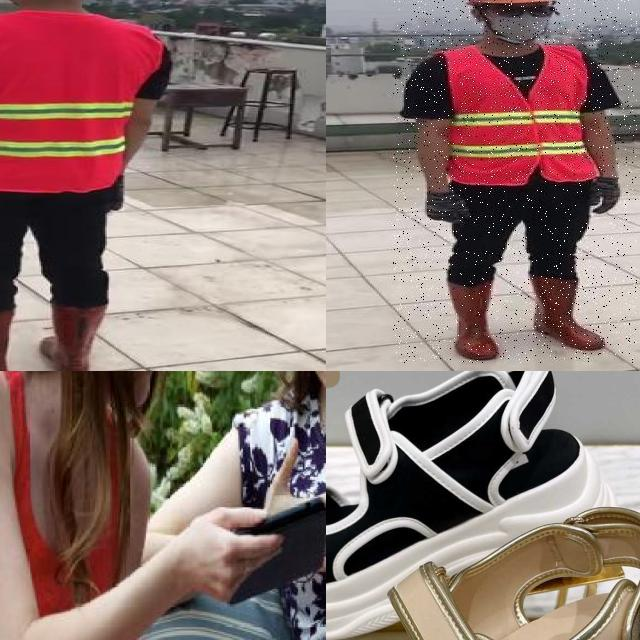Sandals: (326, 371, 639, 621), (326, 489, 640, 640)
boots: (533, 272, 611, 354), (439, 280, 500, 362), (39, 301, 105, 371)
hand_glove: (105, 175, 127, 212)
hand_noglove: (177, 497, 290, 610)
person: (393, 0, 637, 363), (0, 0, 176, 371), (0, 371, 181, 640), (208, 371, 326, 640)
vest: (0, 12, 158, 192), (441, 46, 603, 186)
